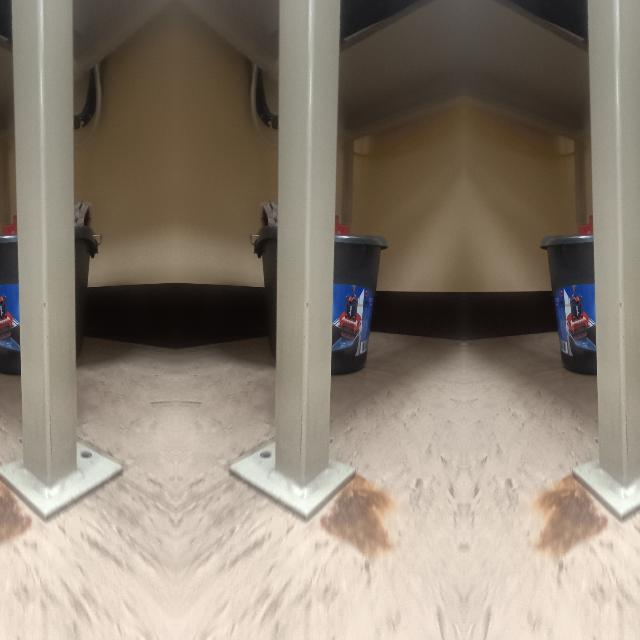obstacle: (245, 204, 351, 524), (0, 204, 105, 524), (577, 204, 640, 524)
